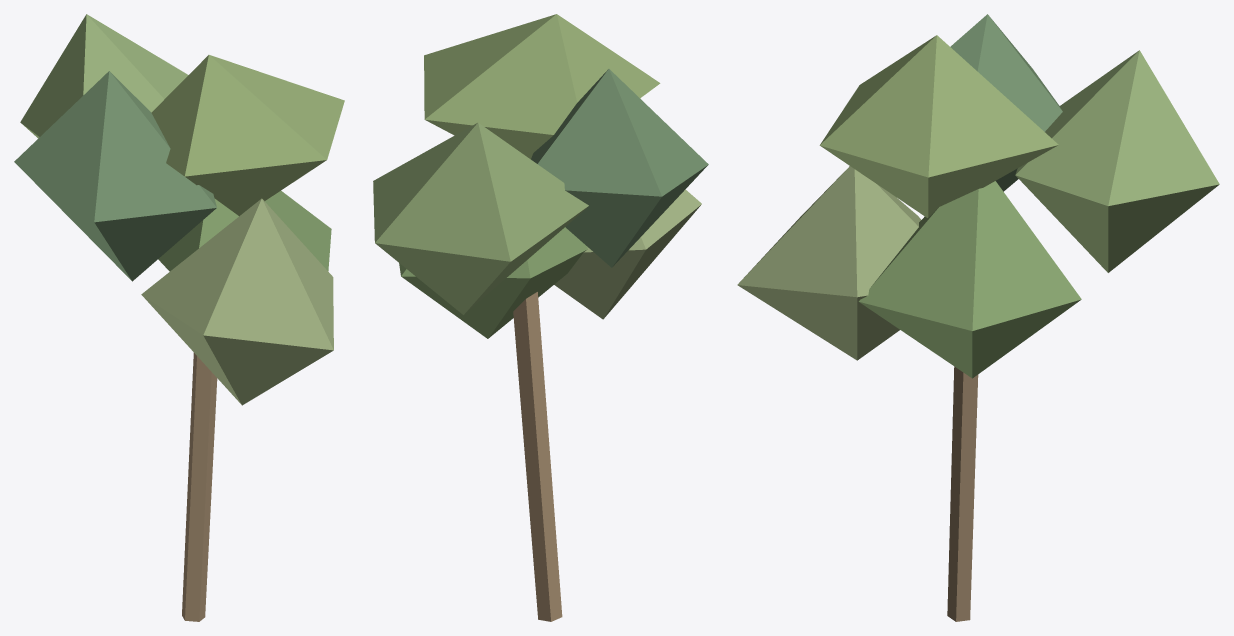
3 renders of one model, left to right at view 1: azimuth 30°, elevation 25°; view 2: azimuth 150°, elevation 25°; view 3: azimuth 270°, elevation 25°, orthographic. The views are drawn at different scales.
Size of the model in its own units: 2.7 by 5.11 by 3.83.
